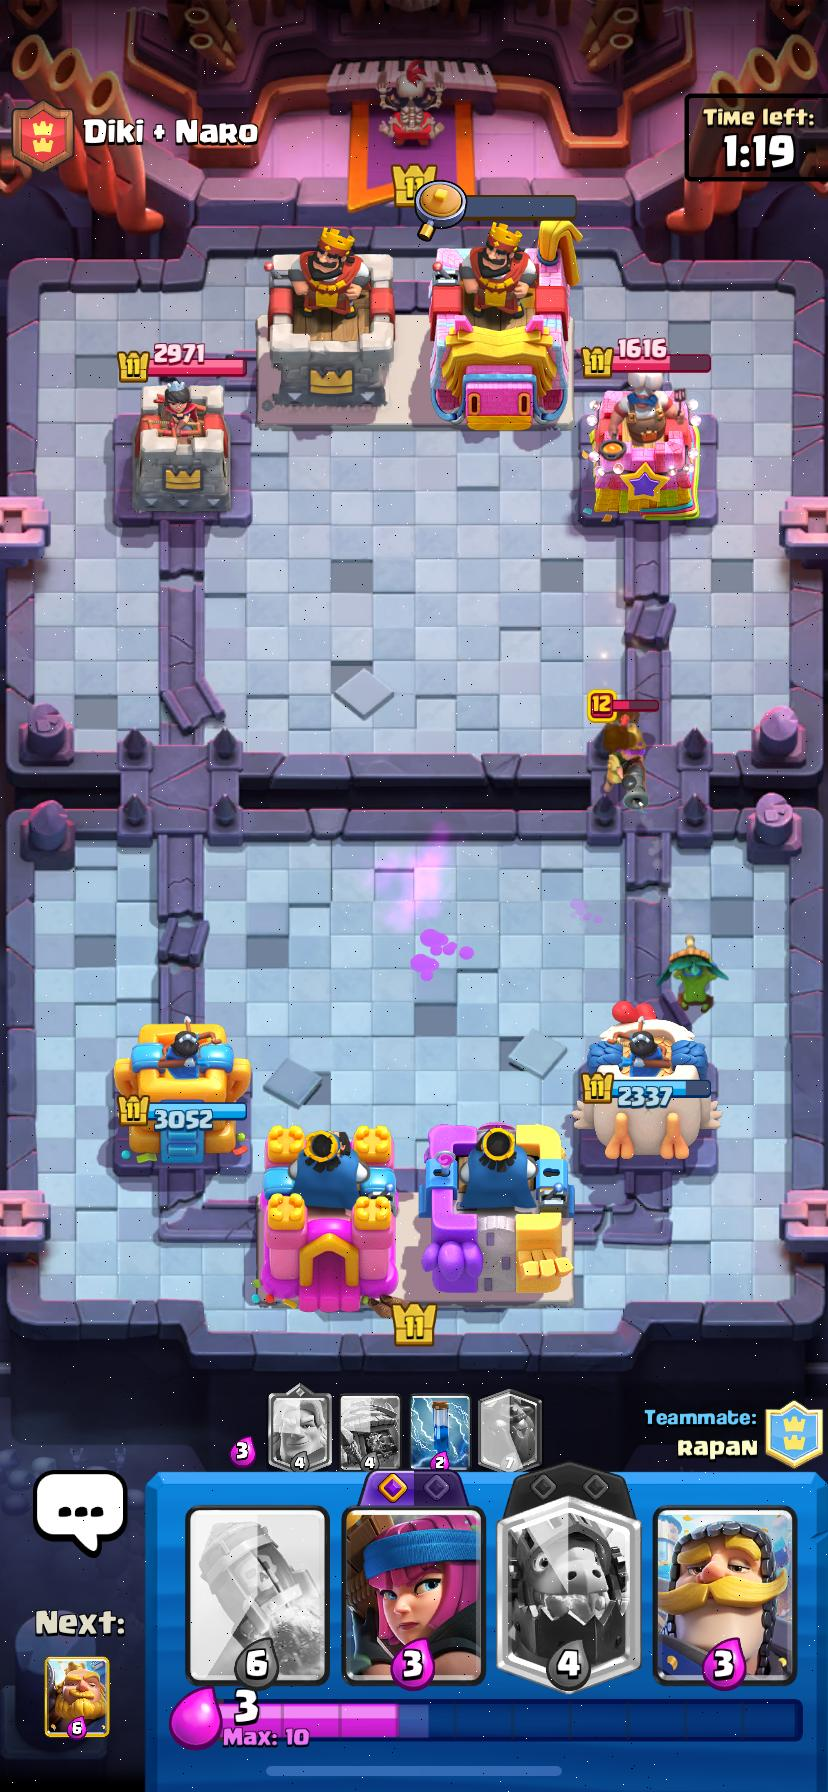EKingTower: (429, 219, 579, 431), (257, 227, 393, 416)
EMusk: (597, 711, 648, 809)
EnemyPanTower: (580, 385, 699, 521)
EnemyPrincessTower: (133, 379, 228, 517)
ODartGoblin: (658, 934, 726, 1018)
OwnKingTower: (419, 1122, 574, 1301), (258, 1128, 396, 1312)
OwnPrincessTower: (578, 1003, 716, 1160), (114, 1019, 250, 1166)
